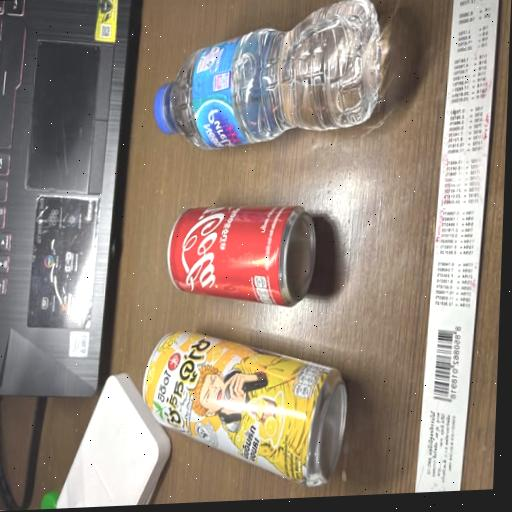bottle: (143, 0, 408, 188)
canned: (120, 308, 359, 500), (149, 193, 335, 326)
